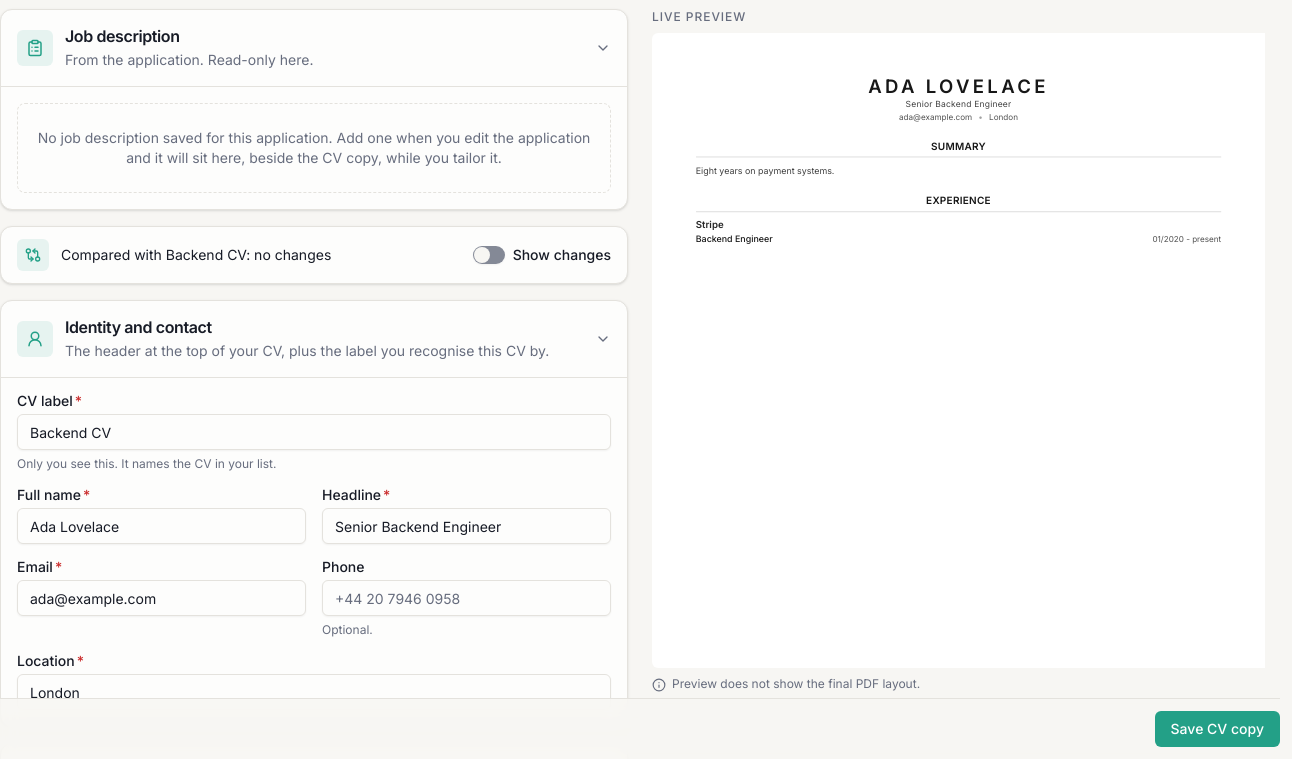
Scenario: the diff UI › shows a removed experience row with Restore, which brings the row back
Click the switch named "Show changes": [489, 255] box [473,246,505,264]
(page scrolled)
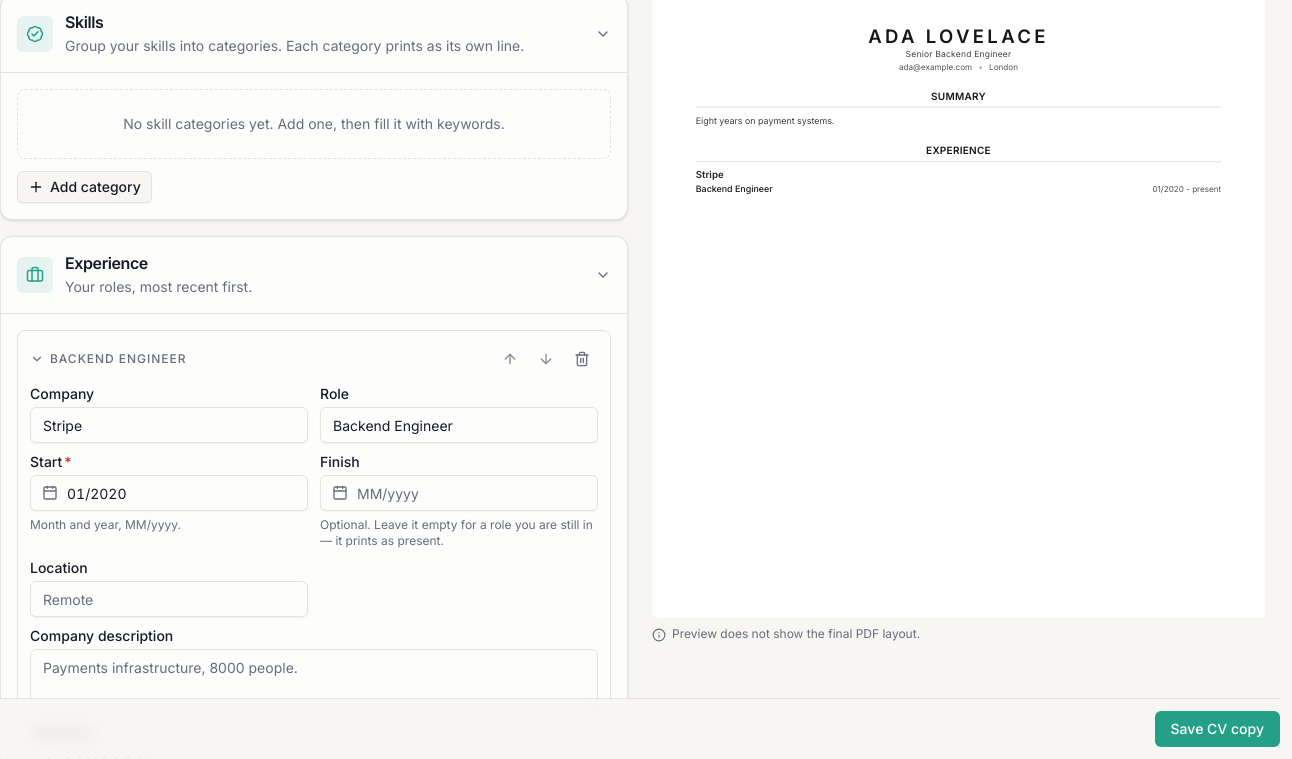
Click the button named "Remove experience 1": [582, 359] box [566,343,598,375]
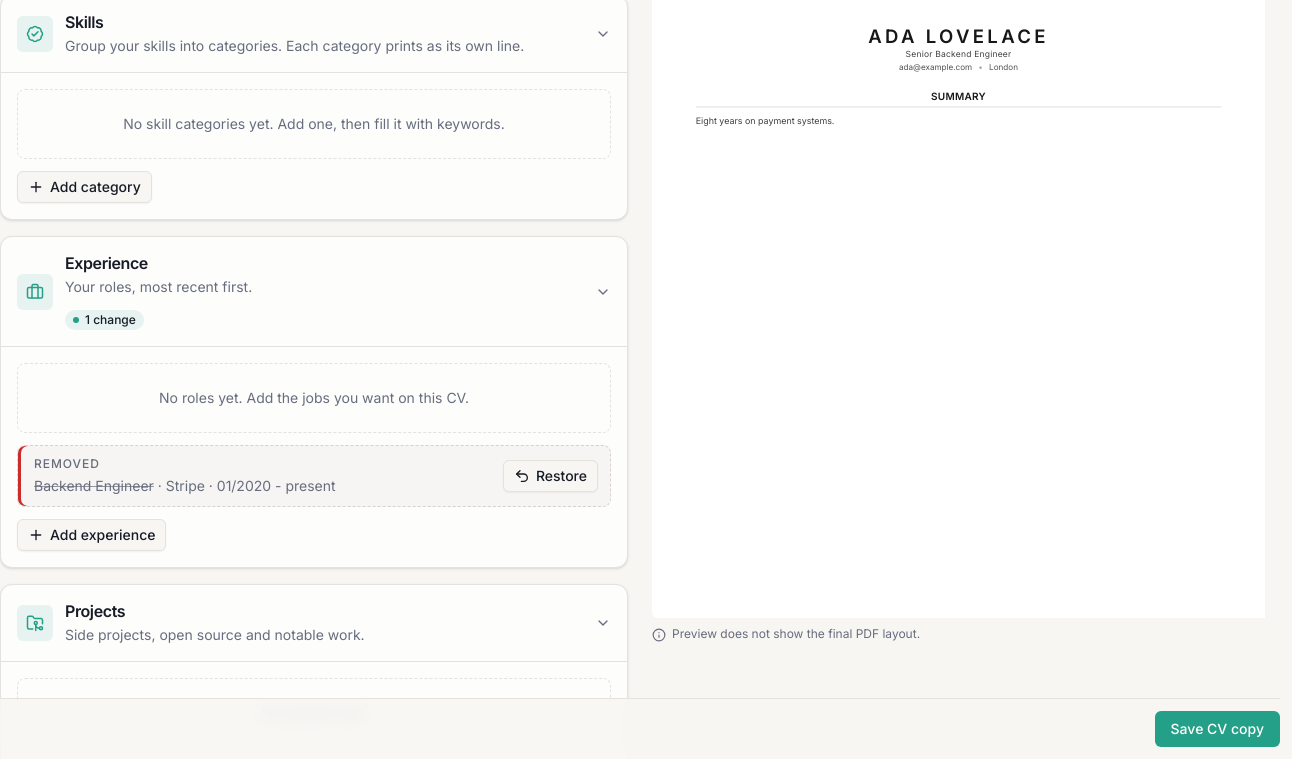
Expected: the element named "Removed experience" is shown, [17,445,611,507]
Click the button with aria-label "Restore experience Backend Engineer": [550, 476] box [503,460,598,492]
(page scrolled)
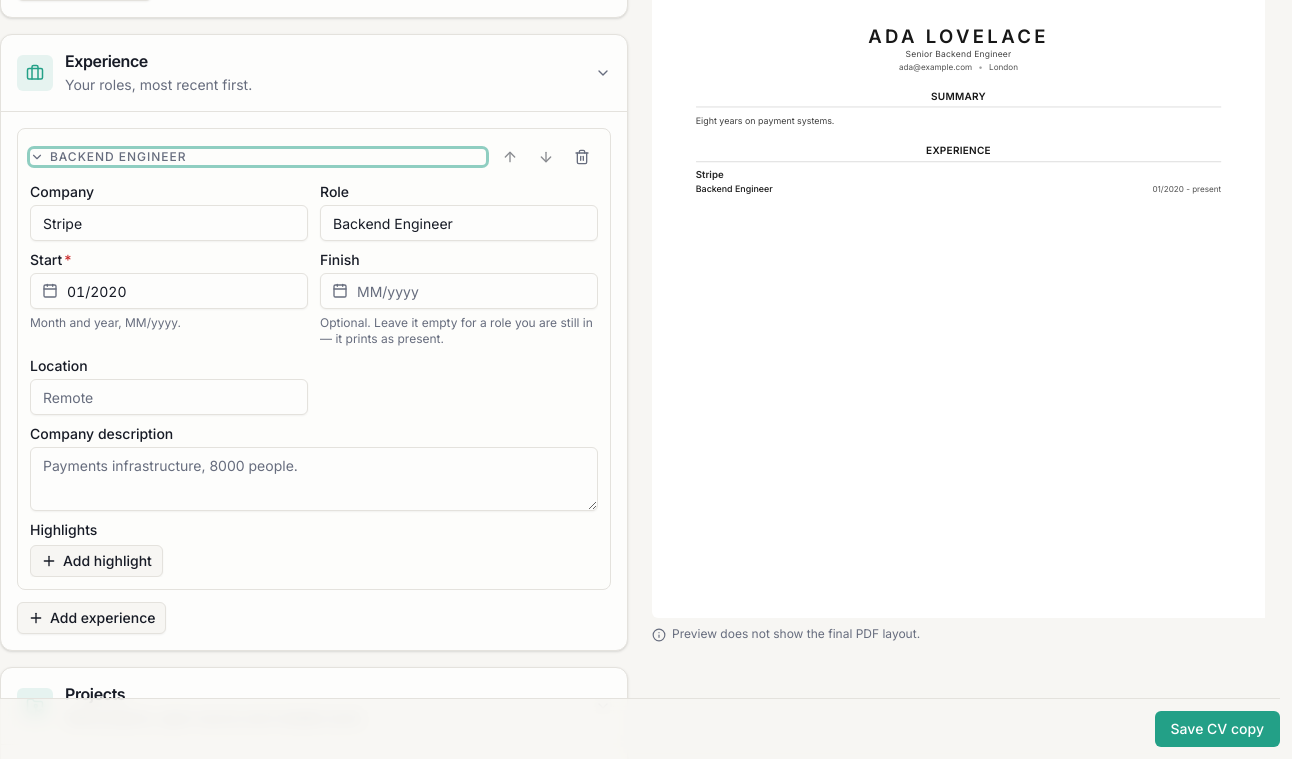
Expected: the list item with aria-label "experience 1" is shown, [17,128,611,590]
